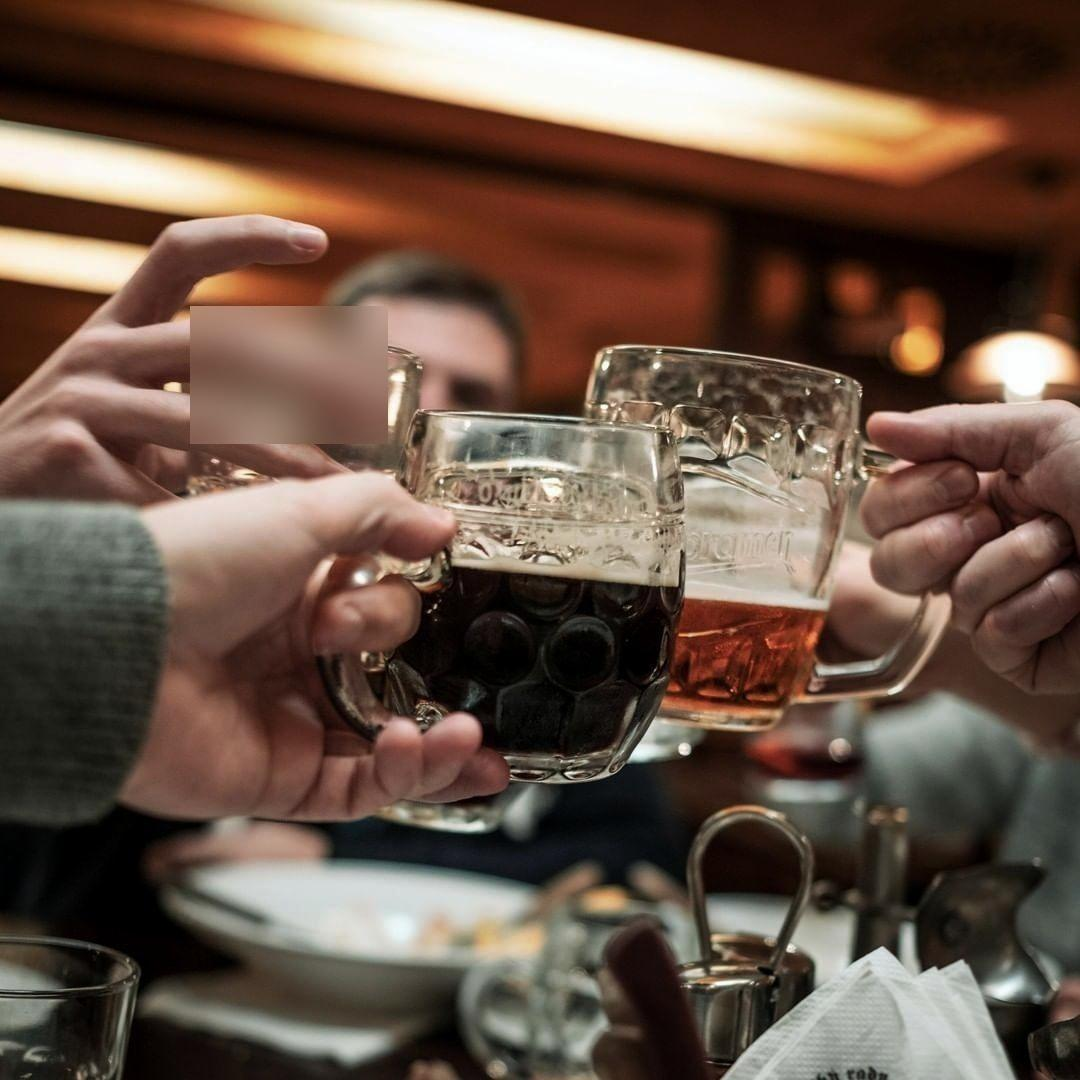glass-mug: (582, 334, 959, 737), (308, 408, 691, 786)
